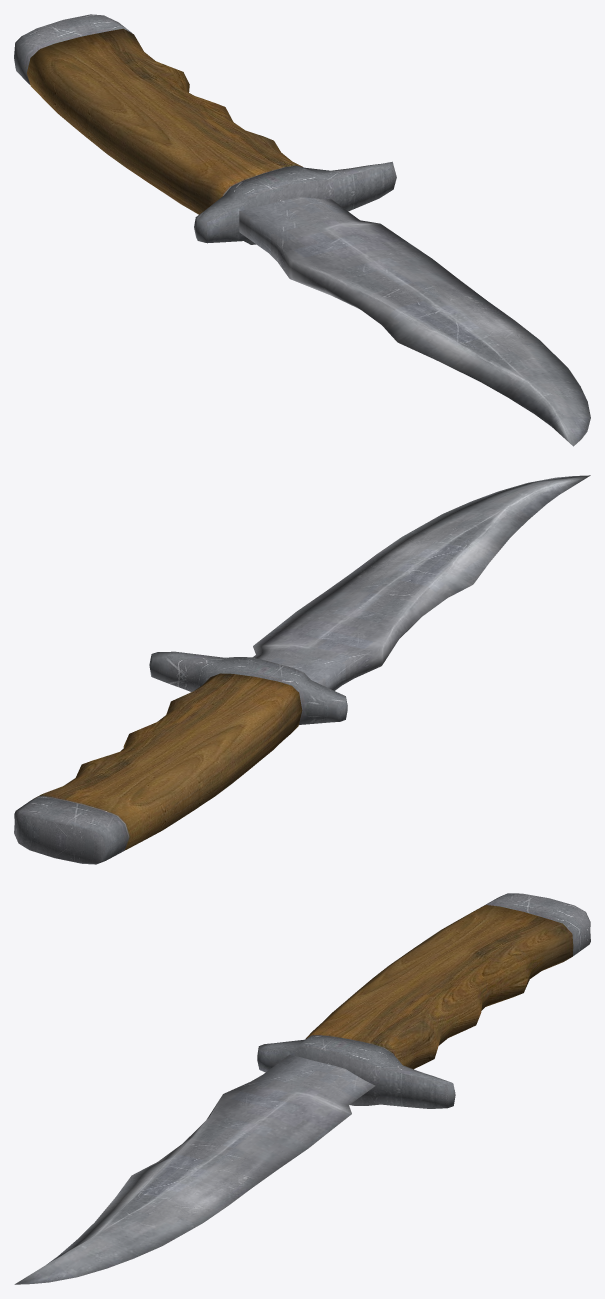
The model's file is combat-knife.glb.
3 renders of one model, top to bottom at view 1: azimuth 30°, elevation 25°; view 2: azimuth 150°, elevation 25°; view 3: azimuth 330°, elevation 25°, orthographic. The views are drawn at different scales.
Parts seen in each view (by area): view 1: Combat Knife; view 2: Combat Knife; view 3: Combat Knife.
Boxes of the visible parts, left/top/right/bottom form: Combat Knife: left=14, top=14, right=590, bottom=446; Combat Knife: left=14, top=475, right=590, bottom=864; Combat Knife: left=14, top=893, right=590, bottom=1284.
Size of the model in its own units: 0.0654 by 0.0161 by 0.3.
1 material, 1 textured.
